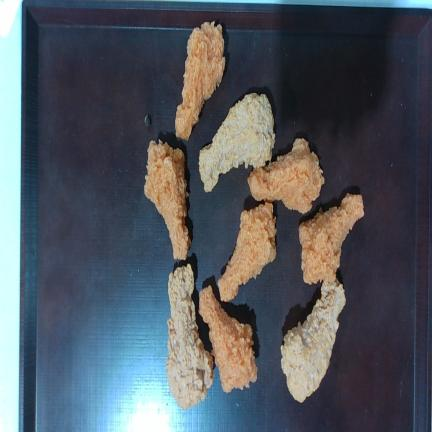chicken: (281, 279, 345, 402), (199, 93, 275, 191), (166, 264, 213, 409), (199, 286, 257, 392), (175, 21, 225, 140), (299, 194, 363, 284), (248, 138, 324, 213), (218, 204, 276, 301), (145, 140, 190, 259)
